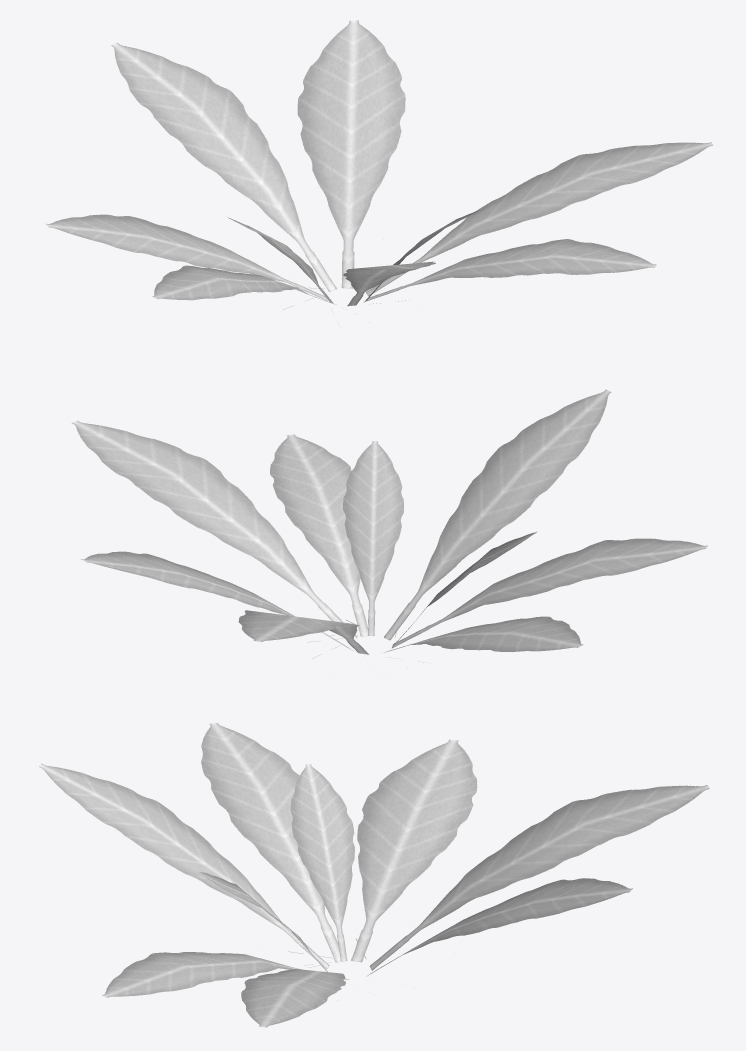
File: broadleaf.glb
The picture shows the model from 3 angles, top to bottom: view 1: azimuth 30°, elevation 25°; view 2: azimuth 150°, elevation 25°; view 3: azimuth 270°, elevation 25°; orthographic projection. The views are drawn at different scales.
Visible parts, largest first — view 1: grass-broadleaf; view 2: grass-broadleaf; view 3: grass-broadleaf.
Part boxes in pixels (left/top/right/bottom): grass-broadleaf: left=46, top=20, right=713, bottom=324; grass-broadleaf: left=71, top=389, right=707, bottom=668; grass-broadleaf: left=39, top=723, right=709, bottom=1027.
Size of the model in its own units: 0.2738 by 0.066 by 0.2622.
1 material, 1 textured.
